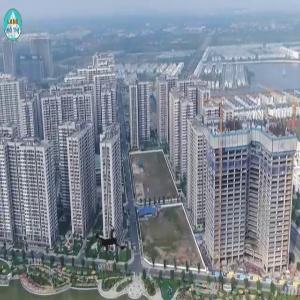drone: (80, 209, 145, 274)
